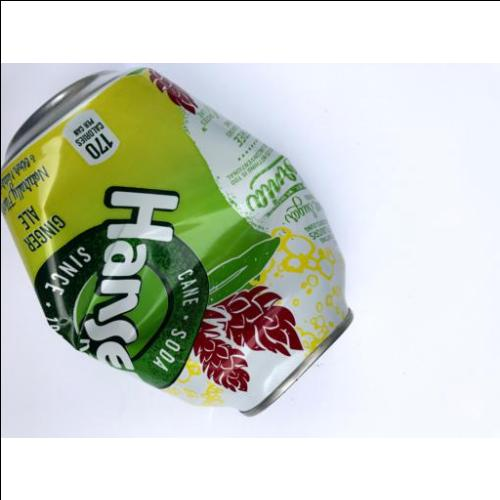metal: (2, 66, 346, 416)
